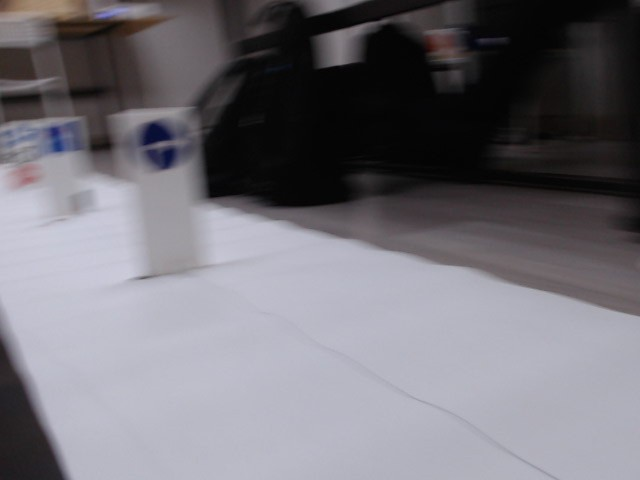Right: (129, 118, 191, 174)
